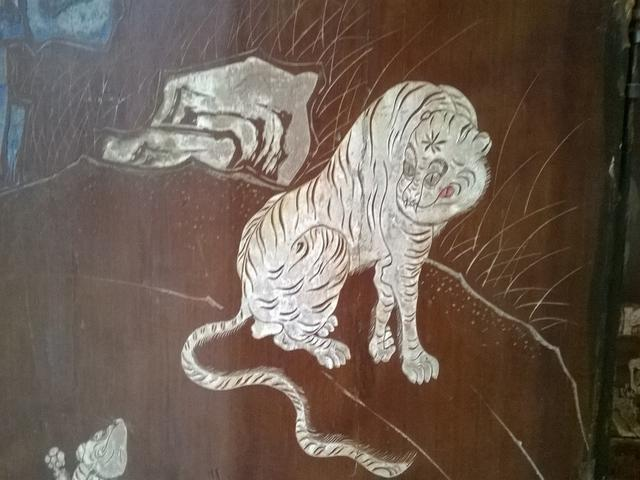tiger: (170, 57, 525, 449)
